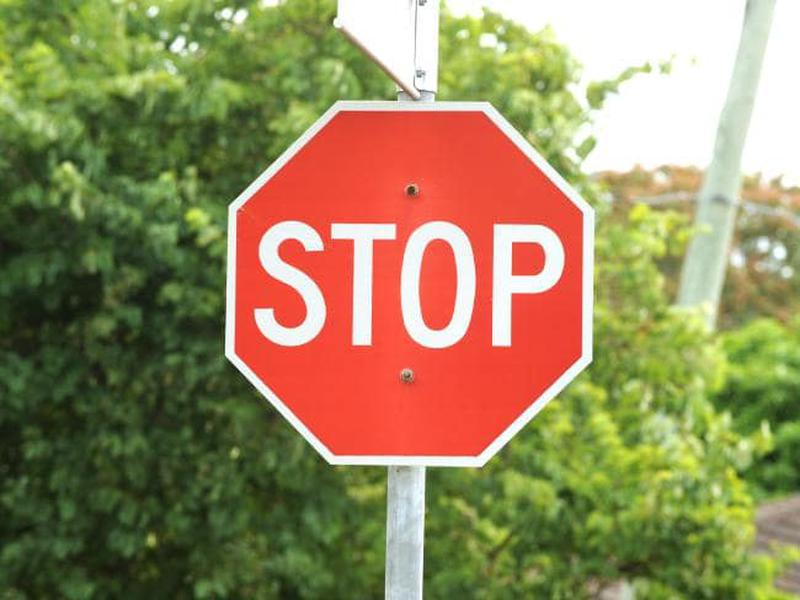stop: (213, 98, 603, 487)
